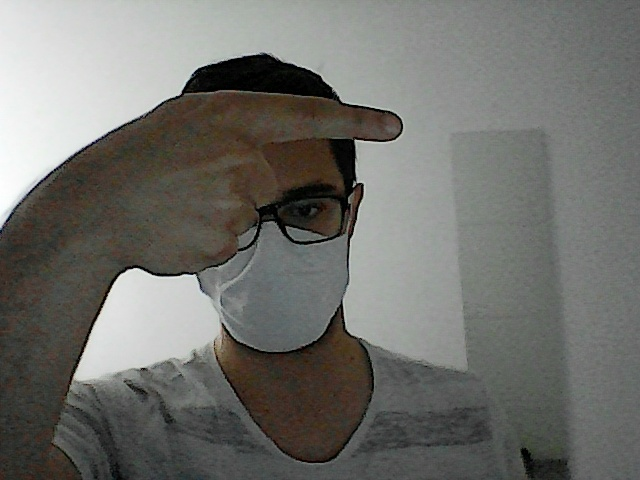left: (125, 76, 415, 282)
